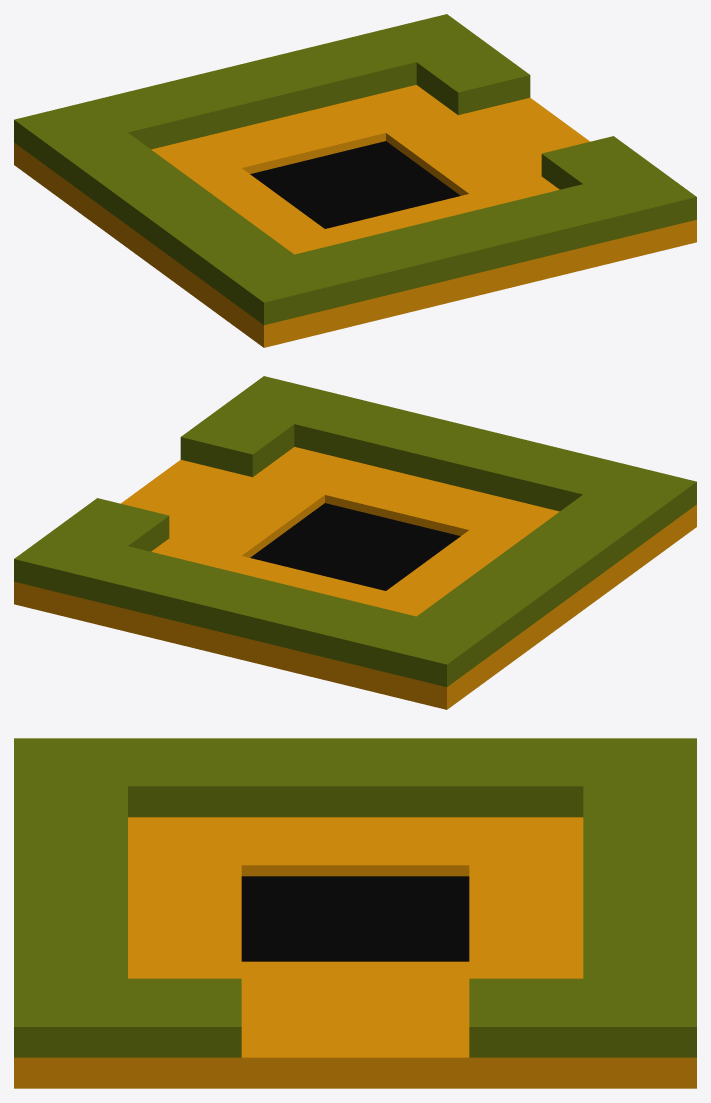
File: FarmEnd.fbx
The picture shows the model from 3 angles, top to bottom: view 1: azimuth 30°, elevation 25°; view 2: azimuth 150°, elevation 25°; view 3: azimuth 270°, elevation 25°; orthographic projection. The views are drawn at different scales.
Parts seen in each view (by area): view 1: FarmEnd; view 2: FarmEnd; view 3: FarmEnd.
Part boxes in pixels (<box>): FarmEnd: <box>14,14,696,347</box>; FarmEnd: <box>14,376,696,709</box>; FarmEnd: <box>14,738,696,1088</box>.
Size of the model in its own units: 1 by 0.1 by 1.
